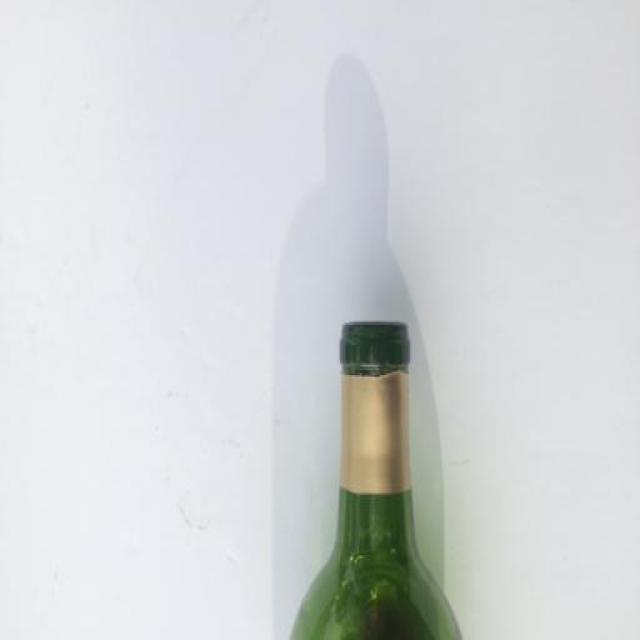BotolKaca: (284, 318, 467, 639)
